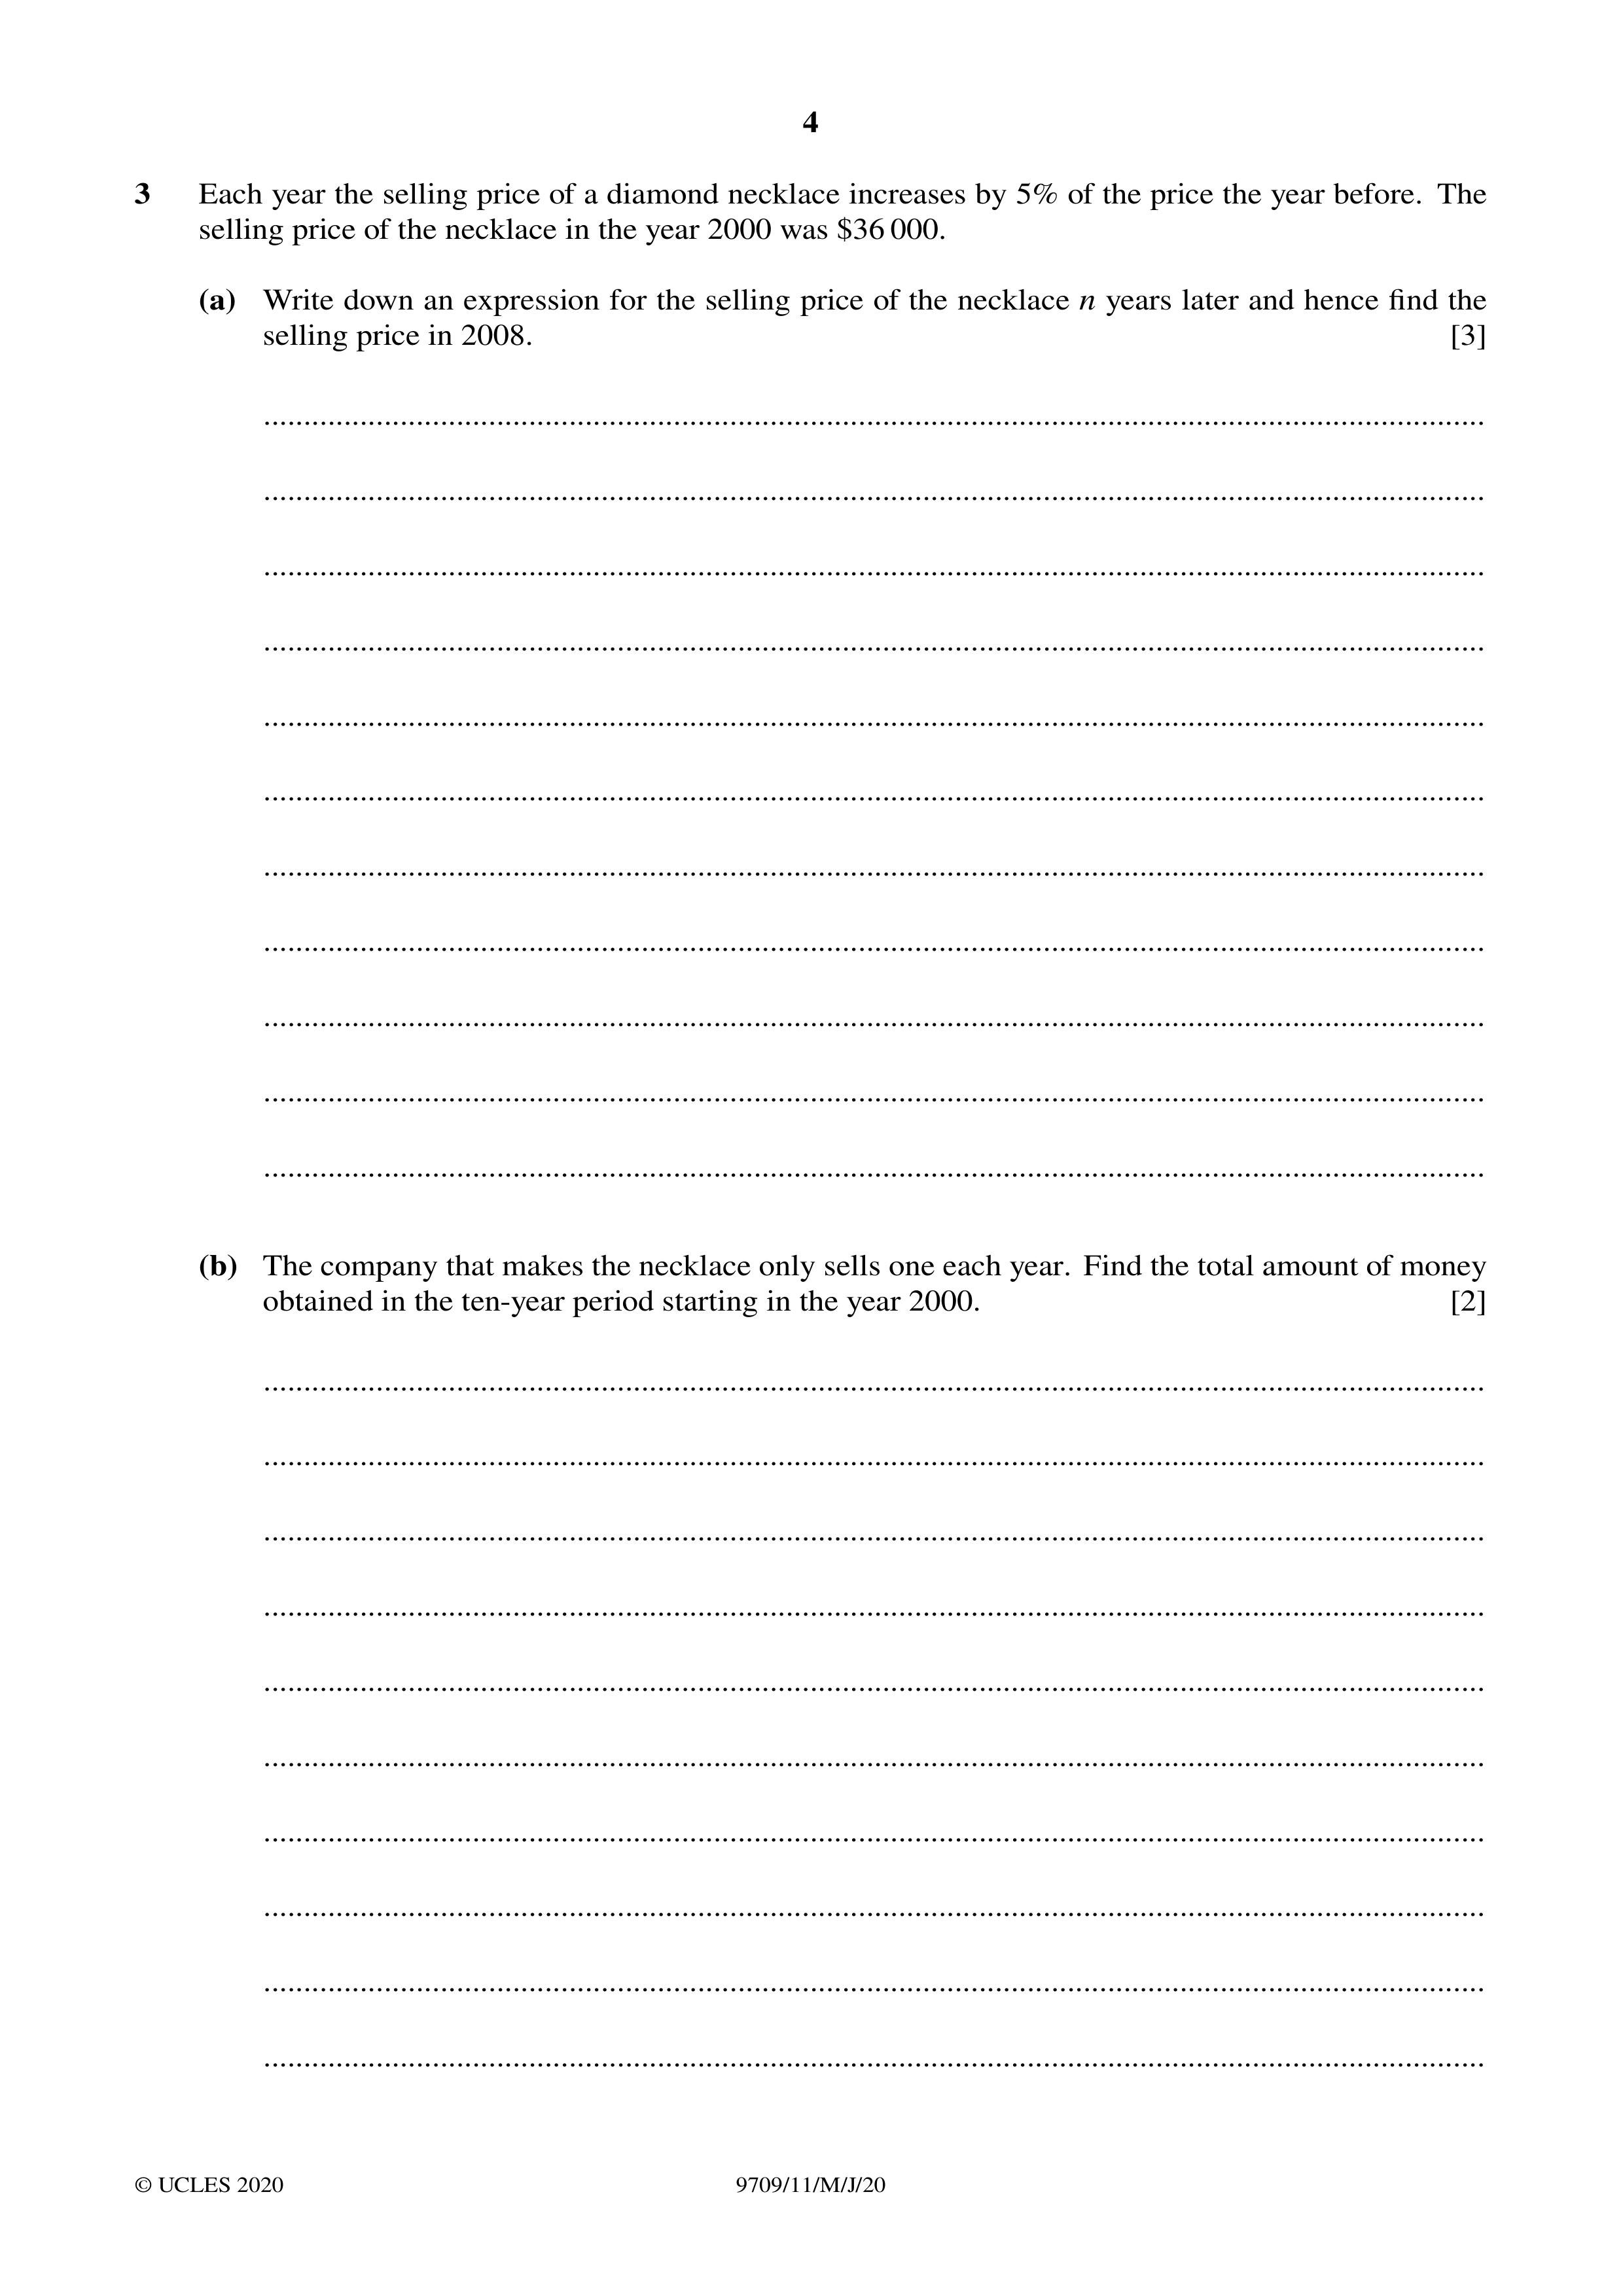question: (97, 149, 1546, 398), (146, 1192, 1523, 1357)
